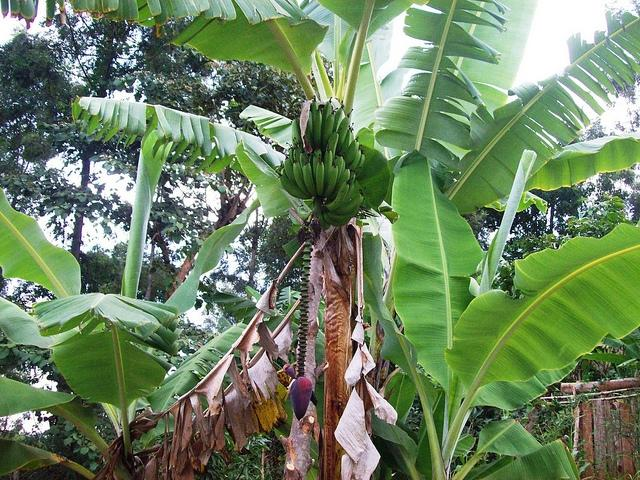banana: (326, 164, 349, 204), (278, 174, 312, 200), (330, 189, 364, 215), (322, 180, 349, 211), (322, 108, 339, 156), (293, 160, 312, 197), (302, 158, 318, 197), (337, 129, 352, 158), (324, 147, 333, 190), (313, 148, 322, 186), (310, 96, 318, 138), (348, 148, 361, 171), (355, 150, 365, 179), (342, 184, 354, 204)
